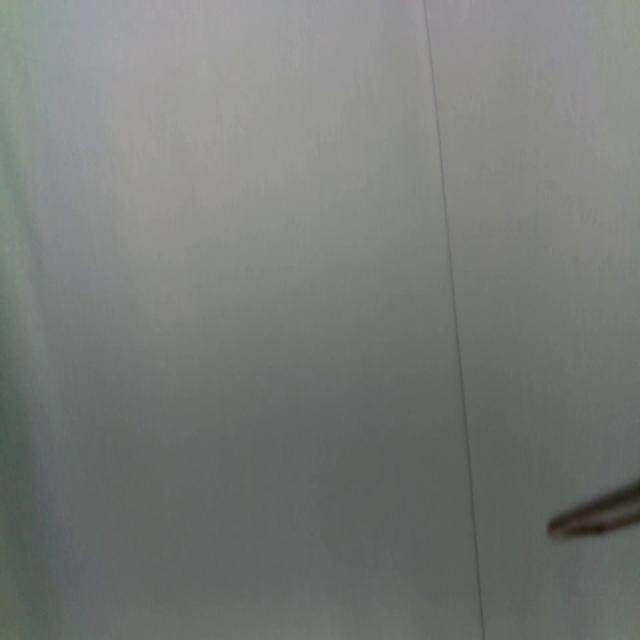crease: (420, 0, 486, 640)
